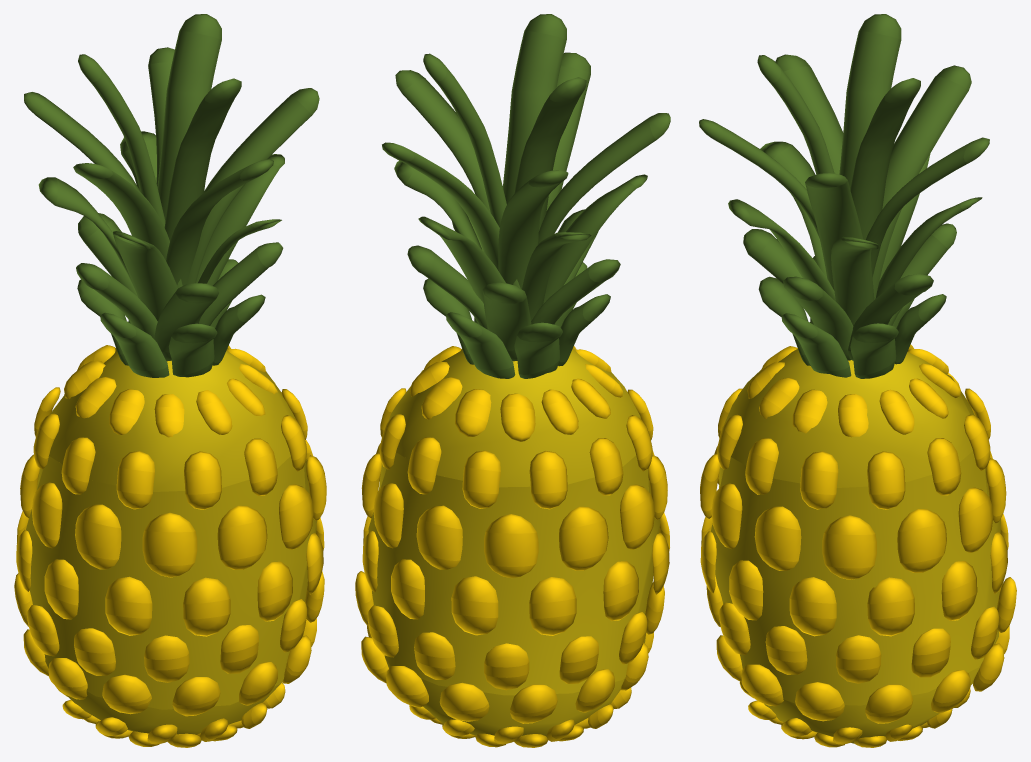
The model's file is pineapple.obj.
3 renders of one model, left to right at view 1: azimuth 30°, elevation 25°; view 2: azimuth 150°, elevation 25°; view 3: azimuth 270°, elevation 25°, orthographic.
Parts seen in each view (by area): view 1: i0000.54706, s0004.40255, s0005.83902, i0011.45590, i0010.24445, i0012.05443, s0003.50175, i0009.60060, s0002.39077, i0013.38332, i0008.36746, s0001.73215 (+2 smaller); view 2: i0000.54706, s0004.40255, i0011.45590, s0005.83902, i0010.24445, i0012.05443, s0003.50175, i0009.60060, i0013.38332, s0002.39077, s0001.73215, i0008.36746 (+2 smaller); view 3: i0000.54706, s0004.40255, i0011.45590, s0005.83902, i0010.24445, s0003.50175, i0012.05443, i0009.60060, s0002.39077, i0008.36746, s0001.73215, i0013.38332 (+2 smaller).
Part boxes in pixels (left/top/right/bottom): i0000.54706: left=26, top=348, right=317, bottom=734; s0004.40255: left=24, top=47, right=319, bottom=288; s0005.83902: left=78, top=14, right=241, bottom=241; i0011.45590: left=20, top=440, right=326, bottom=577; i0010.24445: left=16, top=511, right=324, bottom=636; i0012.05443: left=33, top=381, right=307, bottom=509; s0003.50175: left=38, top=131, right=284, bottom=321; i0009.60060: left=14, top=571, right=324, bottom=682; s0002.39077: left=76, top=213, right=283, bottom=361; i0013.38332: left=64, top=345, right=277, bottom=437; i0008.36746: left=23, top=618, right=316, bottom=716; s0001.73215: left=77, top=259, right=265, bottom=377; i0000.54706: left=368, top=348, right=660, bottom=736; s0004.40255: left=382, top=52, right=670, bottom=289; i0011.45590: left=361, top=443, right=667, bottom=578; s0005.83902: left=423, top=14, right=586, bottom=231; i0010.24445: left=362, top=512, right=669, bottom=635; i0012.05443: left=379, top=388, right=653, bottom=509; s0003.50175: left=394, top=160, right=647, bottom=321; i0009.60060: left=355, top=571, right=664, bottom=690; i0013.38332: left=410, top=346, right=622, bottom=441; s0002.39077: left=407, top=209, right=620, bottom=361; s0001.73215: left=423, top=262, right=610, bottom=378; i0008.36746: left=361, top=625, right=653, bottom=723; i0000.54706: left=710, top=349, right=1000, bottom=743; s0004.40255: left=699, top=54, right=989, bottom=299; i0011.45590: left=700, top=446, right=1006, bottom=579; s0005.83902: left=757, top=14, right=920, bottom=239; i0010.24445: left=700, top=514, right=1008, bottom=636; s0003.50175: left=728, top=141, right=982, bottom=325; i0012.05443: left=717, top=373, right=990, bottom=509; i0009.60060: left=706, top=575, right=1016, bottom=683; s0002.39077: left=743, top=223, right=956, bottom=360; i0008.36746: left=716, top=626, right=1009, bottom=723; s0001.73215: left=758, top=256, right=946, bottom=378; i0013.38332: left=747, top=344, right=960, bottom=437.
Bounding box in the file's own units: 0.3046 × 0.7341 × 0.31.
